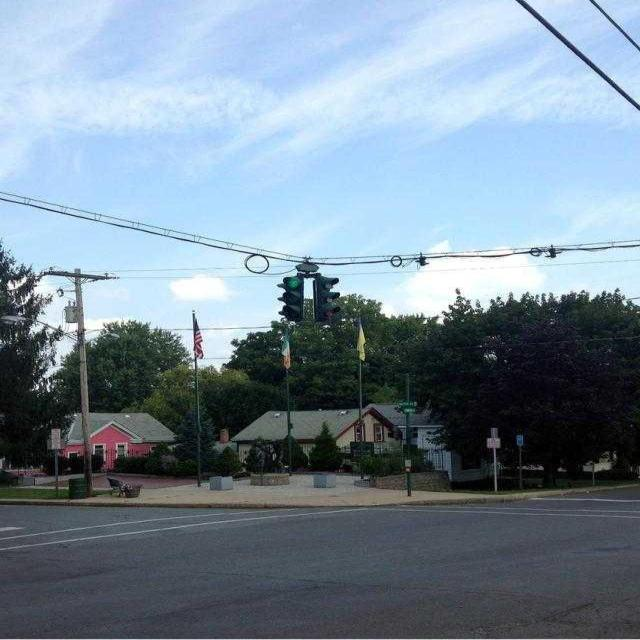Traffic Light -Green-: (282, 274, 305, 320)
